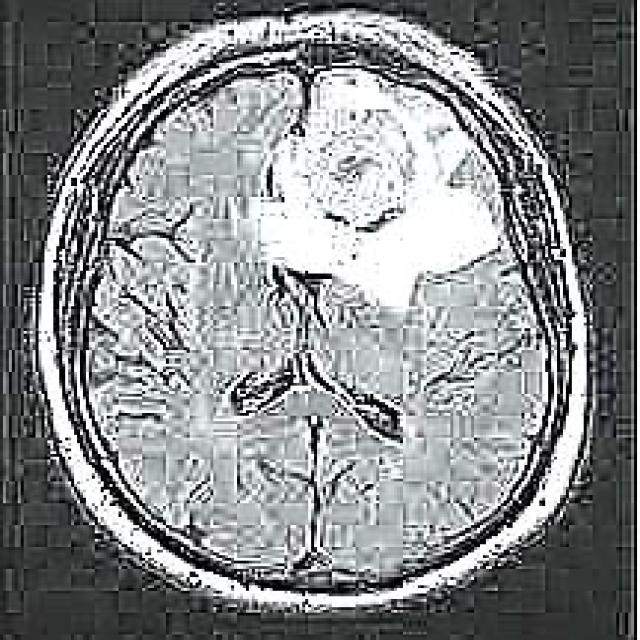Tumor-Cell: (255, 71, 464, 297)
